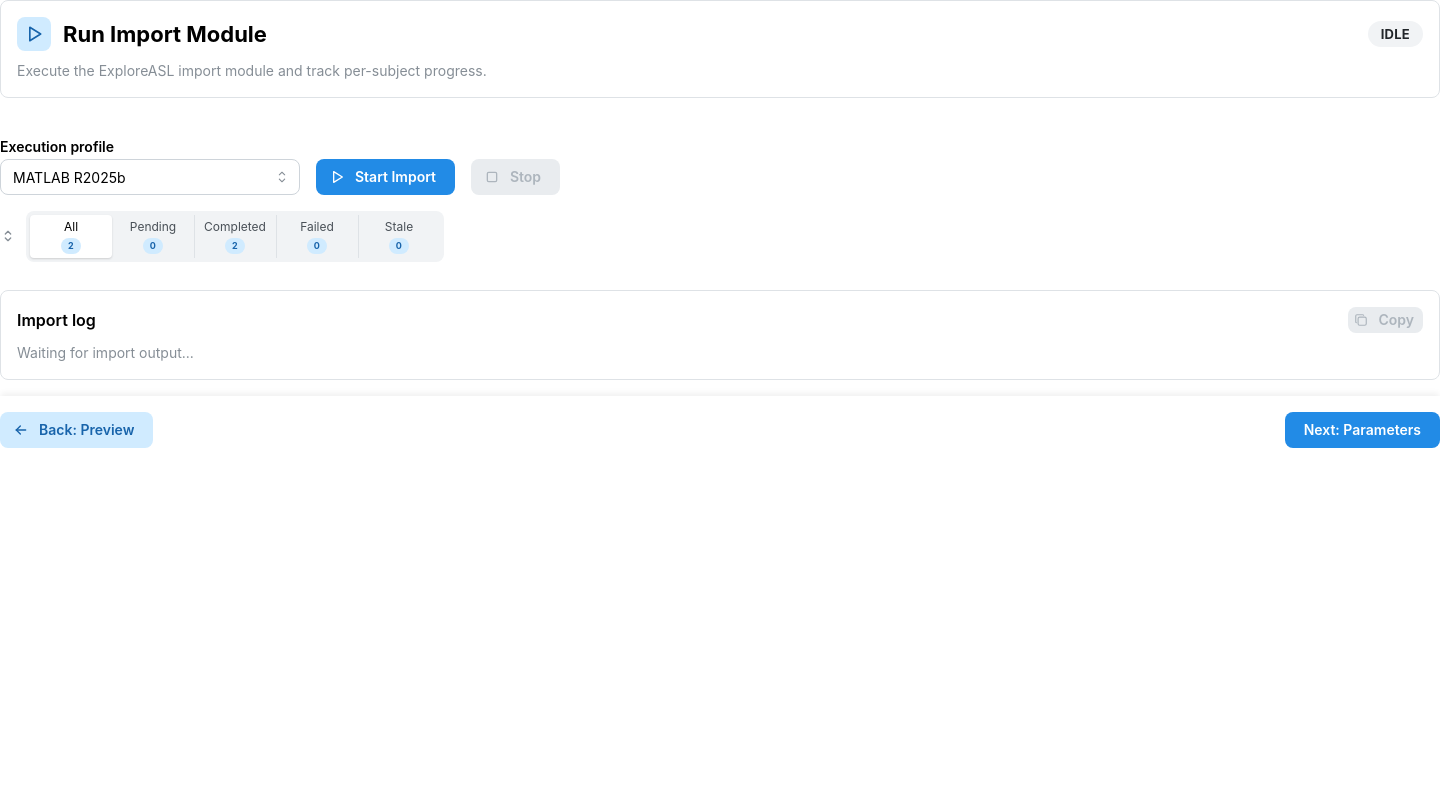
ImportExecution › shows confirmation dialog when freshly completed subject is selected for re-import
Click the button "Start Import" at {"x": 385, "y": 177}, box [316, 159, 455, 195]
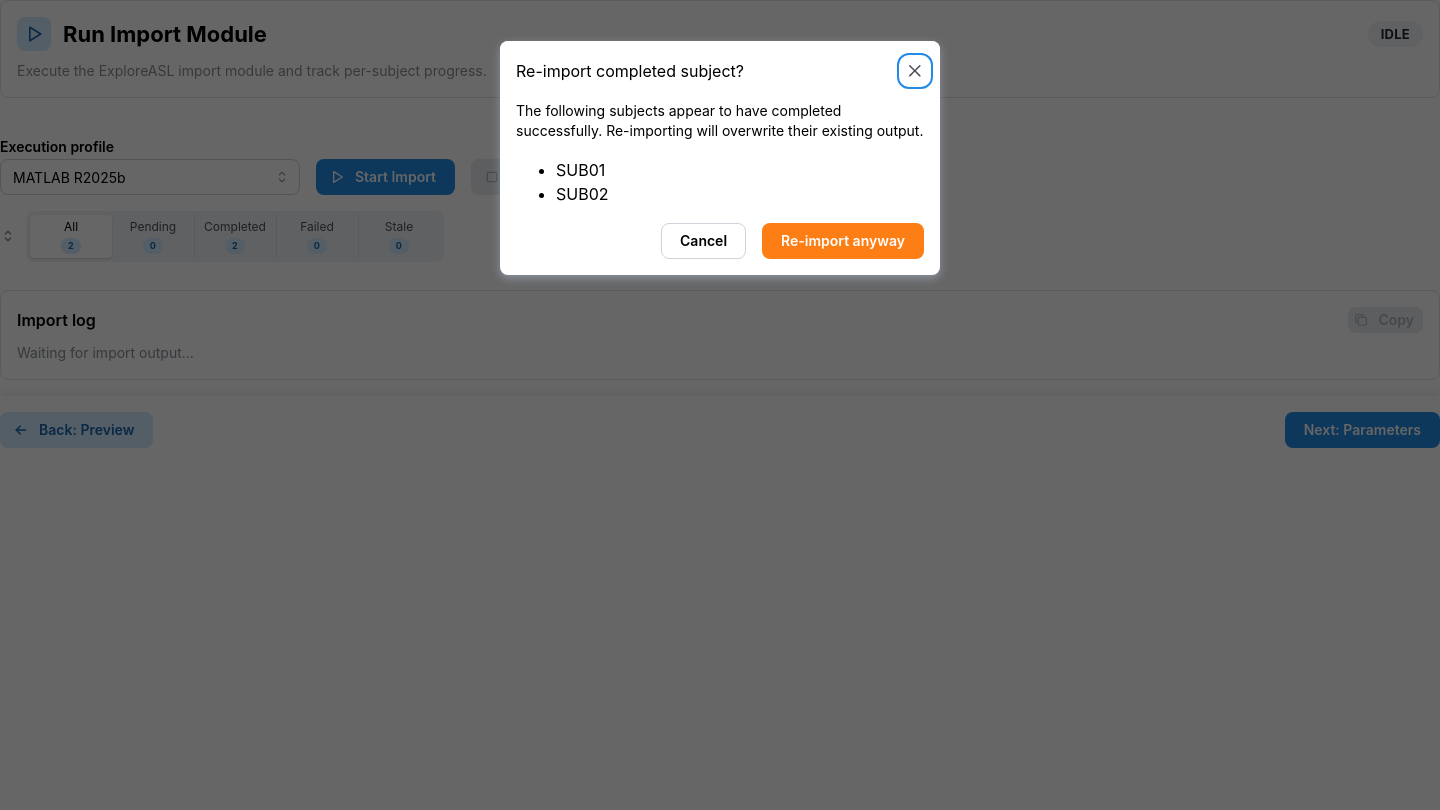
Expected: the button with test id "confirm-reimport-cancel" is shown, [661, 223, 746, 259]
